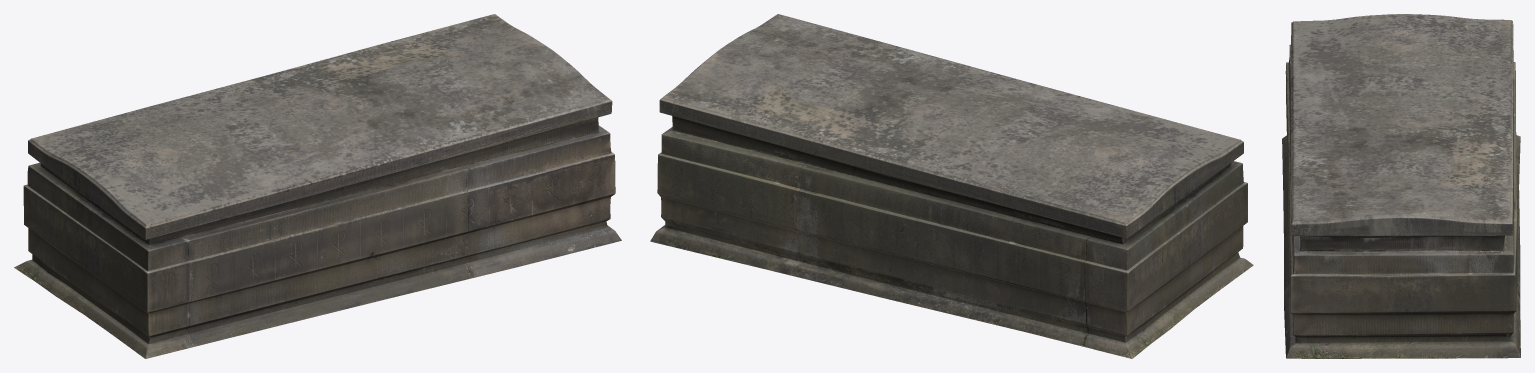
The model's file is sm_Grave_09_01.fbx.
3 renders of one model, left to right at view 1: azimuth 30°, elevation 25°; view 2: azimuth 150°, elevation 25°; view 3: azimuth 270°, elevation 25°, orthographic. The views are drawn at different scales.
Parts seen in each view (by area): view 1: sm_Grave_09_01_LOD0; view 2: sm_Grave_09_01_LOD0; view 3: sm_Grave_09_01_LOD0.
Boxes of the visible parts, x1,y1,x2,y2 form: sm_Grave_09_01_LOD0: (14,14,621,358); sm_Grave_09_01_LOD0: (650,14,1253,358); sm_Grave_09_01_LOD0: (1282,14,1520,358).
Bounding box in the file's own units: 227 × 103 × 66.57.
